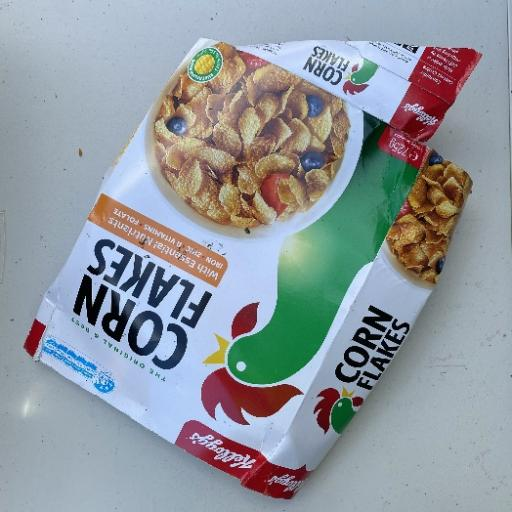Cardboard: (22, 35, 482, 500)
